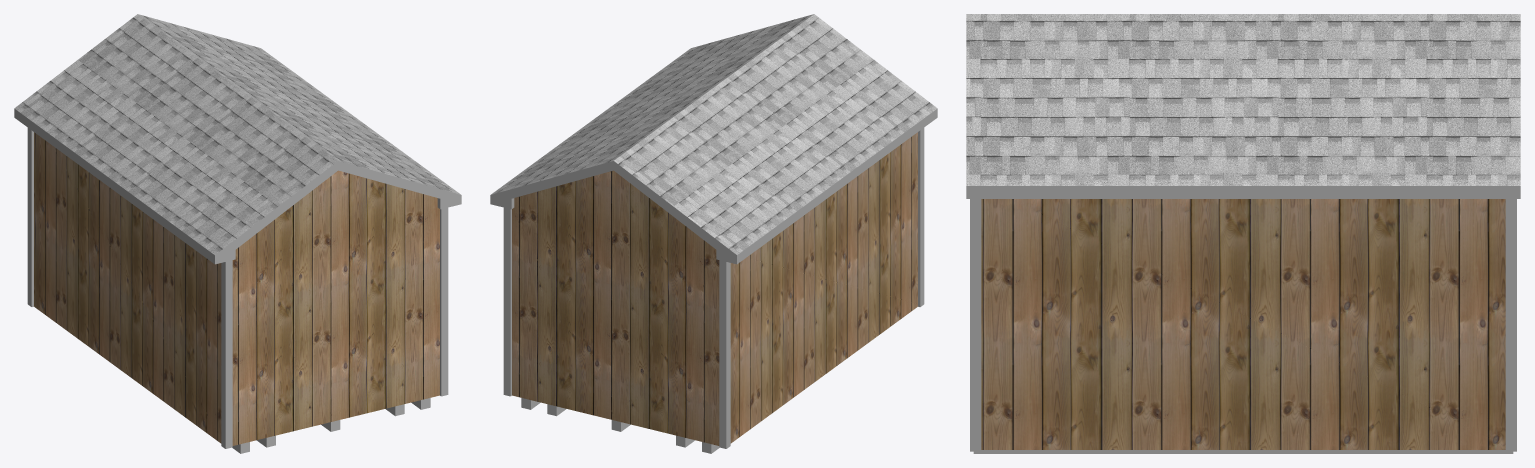
File: A-frame_8x12.obj
3 renders of one model, left to right at view 1: azimuth 30°, elevation 25°; view 2: azimuth 150°, elevation 25°; view 3: azimuth 270°, elevation 25°, orthographic. The views are drawn at different scales.
Parts seen in each view (by area): view 1: Shed, Roof, Trim, Sides, Floor; view 2: Shed, Roof, Trim, Sides, Floor; view 3: Shed, Roof, Sides, Trim, Floor.
Part boxes in pixels (box(x1,y1,x2,y2)): Shed: box(34, 132, 439, 445); Roof: box(14, 14, 460, 254); Trim: box(27, 128, 448, 448); Sides: box(14, 108, 461, 264); Floor: box(232, 398, 430, 453); Shed: box(512, 132, 917, 445); Roof: box(491, 14, 937, 254); Trim: box(503, 128, 924, 448); Sides: box(490, 108, 937, 264); Floor: box(521, 398, 719, 453); Shed: box(981, 199, 1505, 449); Roof: box(966, 14, 1520, 185); Sides: box(966, 186, 1520, 198); Trim: box(970, 199, 1516, 451); Floor: box(973, 450, 1513, 453).
Bounding box in the file's own units: 2.67 × 2.81 × 3.76.
